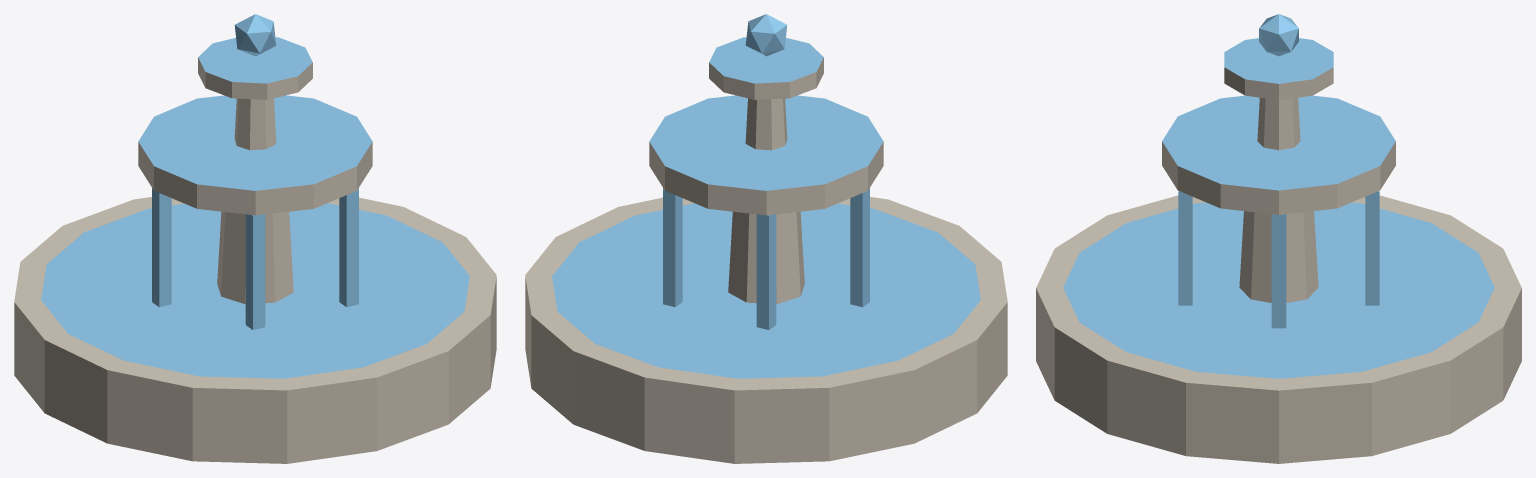
The model's file is P_Fountain.fbx.
3 views of the same model, side by side, from view 1: azimuth 30°, elevation 25°; view 2: azimuth 150°, elevation 25°; view 3: azimuth 270°, elevation 25° (orthographic).
Visible parts, largest first — view 1: P_Fountain; view 2: P_Fountain; view 3: P_Fountain.
Part boxes in pixels (x1,y1,x2,y2): P_Fountain: [14, 14, 496, 463]; P_Fountain: [525, 14, 1007, 463]; P_Fountain: [1036, 14, 1521, 463].
Size of the model in its own units: 2.7 by 2.13 by 2.7.
